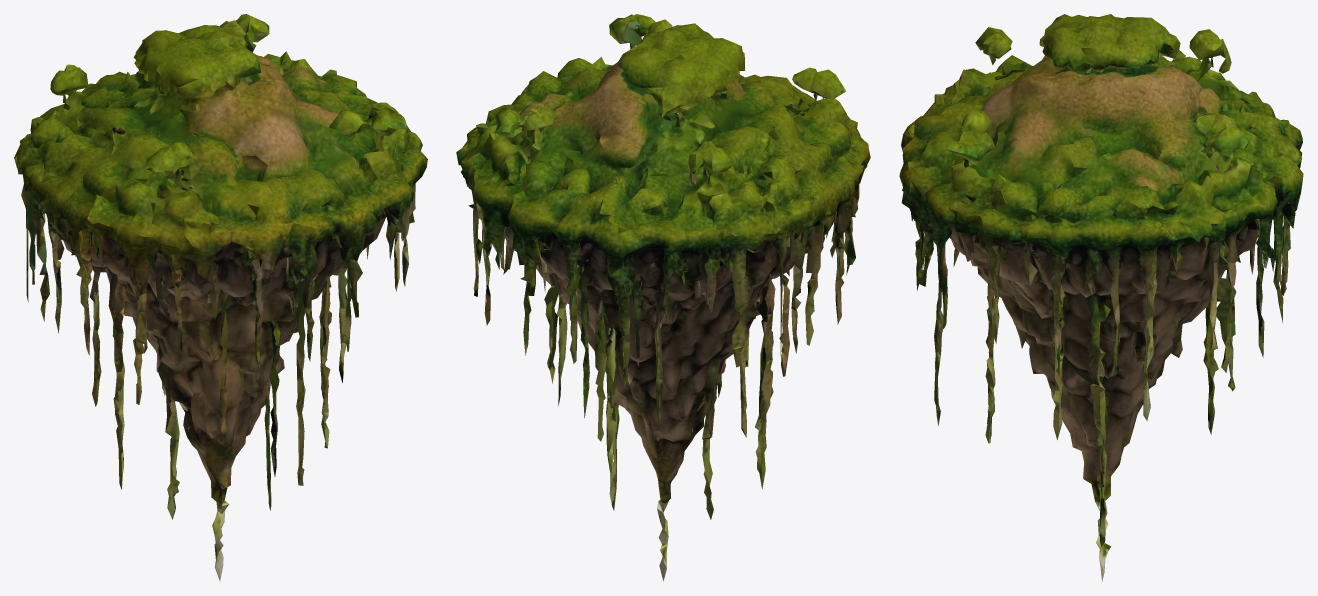
The model's file is isle-spire-hd.glb.
3 views of the same model, side by side, from view 1: azimuth 30°, elevation 25°; view 2: azimuth 150°, elevation 25°; view 3: azimuth 270°, elevation 25° (orthographic).
Parts seen in each view (by area): view 1: isle-spire-hd.raw; view 2: isle-spire-hd.raw; view 3: isle-spire-hd.raw.
Boxes of the visible parts, x1=… form: isle-spire-hd.raw: x1=14, y1=14, x2=427, y2=581; isle-spire-hd.raw: x1=456, y1=14, x2=870, y2=581; isle-spire-hd.raw: x1=899, y1=14, x2=1303, y2=581.
Size of the model in its own units: 6.53 by 9.99 by 6.6.
1 material, 1 textured.
